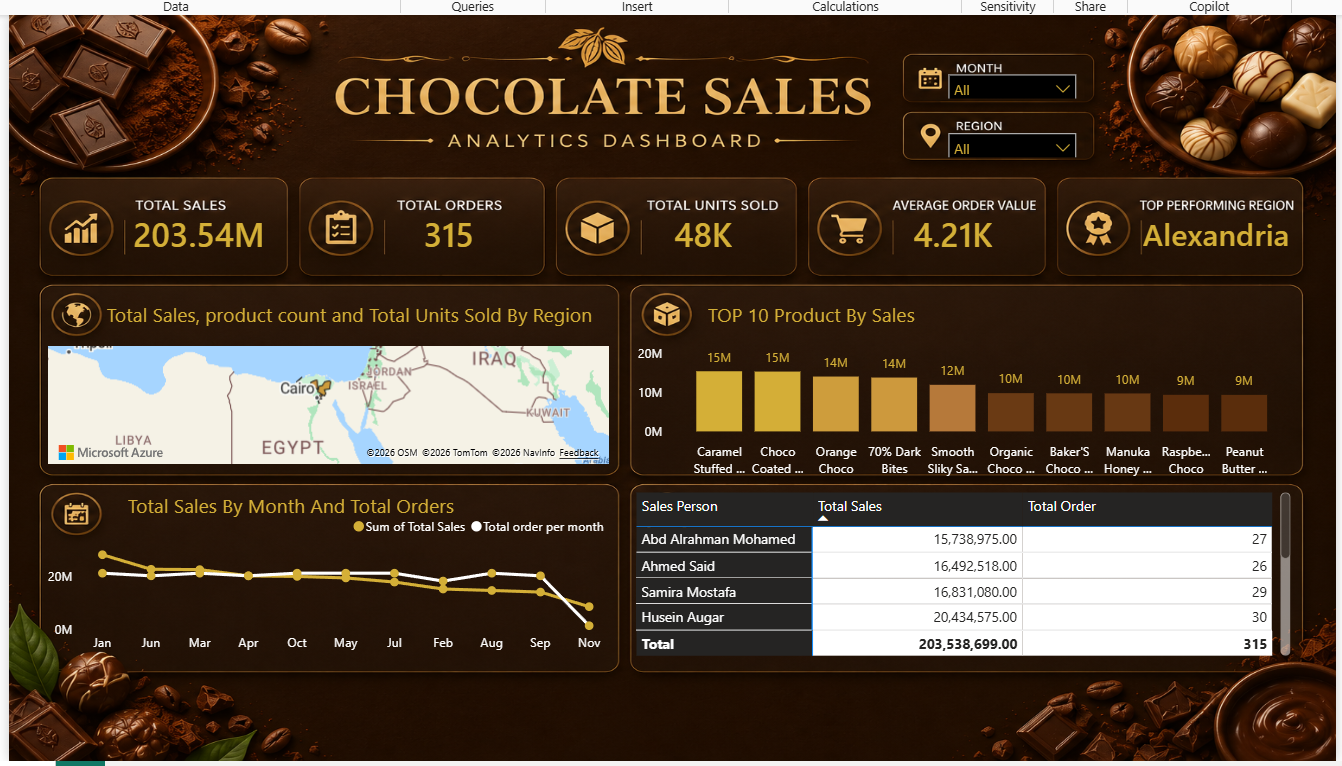

The page's visual inventory and layout, read from the dashboard file:
{"tool":"powerbi","page":{"name":"Page 1","canvas":[1280,720],"ordinal":0},"visuals":[{"type":"cardVisual","fields":{"Data":["Sum(Raw-data.Total Sales)"]},"box":[89.3,161.7,188.2,97.7],"z":0},{"type":"cardVisual","fields":{"Data":["Count(Raw-data.Order-ID)"]},"box":[330.6,161.7,188.2,97.7],"z":1000},{"type":"cardVisual","fields":{"Data":["Sum(Raw-data.Units)"]},"box":[575.5,161.7,189.4,97.7],"z":2000},{"type":"cardVisual","fields":{"Data":["Avg(Raw-data.Price)"]},"box":[801.1,161.7,220.8,97.7],"z":3000},{"type":"cardVisual","fields":{"Data":["Min(Raw-data.Region)"]},"box":[1064.1,161.7,202.7,97.7],"z":4000},{"type":"azureMap","fields":{"Category":["Raw-data.Region"]},"box":[32.6,314.9,551.3,123.1],"z":5000},{"type":"textbox","box":[89.3,271.4,494.6,43.4],"z":6000},{"type":"slicer","fields":{"Values":["Raw-data.Order date .Variation.Date Hierarchy.Month"]},"box":[896,47.3,143.3,33.3],"z":7000},{"type":"slicer","fields":{"Values":["Raw-data.Region"]},"box":[895.8,103.3,143.3,33.3],"z":8000},{"type":"lineChart","fields":{"Category":["Raw-data.Month Name"],"Y":["Sum(Raw-data.Total Sales)"],"Y2":["Count(Raw-data.Order-ID)"]},"box":[32.6,474.1,551.3,149.6],"z":9000},{"type":"textbox","box":[109.8,456,335.4,36.2],"z":10000},{"type":"pivotTable","fields":{"Rows":["Raw-data.Sales Person"],"Values":["Sum(Raw-data.Total Sales)","Count(Raw-data.Order-ID)"]},"box":[600.8,456,640.6,167.7],"z":11000},{"type":"clusteredColumnChart","fields":{"Y":["Sum(Raw-data.Total Sales)"],"Category":["Raw-data.Product"]},"box":[602.4,307.4,640.8,145.5],"z":12000},{"type":"textbox","box":[669.6,271.7,336.2,35.7],"z":13000}]}

Visuals, with their boxes on the page's 1280x720 design canvas (x1, y1, x2, y2). These are canvas units, not pixel positions in the 1342x766 screenshot, which may show the page scaled, cropped or inside an application window:
cardVisual - Sum(Raw-data.Total Sales): 89, 162, 278, 259
cardVisual - Count(Raw-data.Order-ID): 331, 162, 519, 259
cardVisual - Sum(Raw-data.Units): 576, 162, 765, 259
cardVisual - Avg(Raw-data.Price): 801, 162, 1022, 259
cardVisual - Min(Raw-data.Region): 1064, 162, 1267, 259
azureMap - Raw-data.Region: 33, 315, 584, 438
textbox: 89, 271, 584, 315
slicer - Raw-data.Order date .Variation.Date Hierarchy.Month: 896, 47, 1039, 81
slicer - Raw-data.Region: 896, 103, 1039, 137
lineChart - Raw-data.Month Name x Sum(Raw-data.Total Sales): 33, 474, 584, 624
textbox: 110, 456, 445, 492
pivotTable - Raw-data.Sales Person x Sum(Raw-data.Total Sales): 601, 456, 1241, 624
clusteredColumnChart - Sum(Raw-data.Total Sales) x Raw-data.Product: 602, 307, 1243, 453
textbox: 670, 272, 1006, 307
